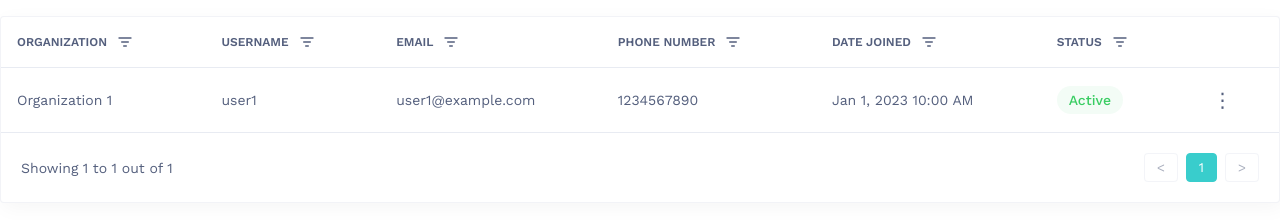
Test: UsersTable › shows dropdown menu when clicking menu button
Click the button "⋮" at [1222, 100], box [1202,83,1242,117]
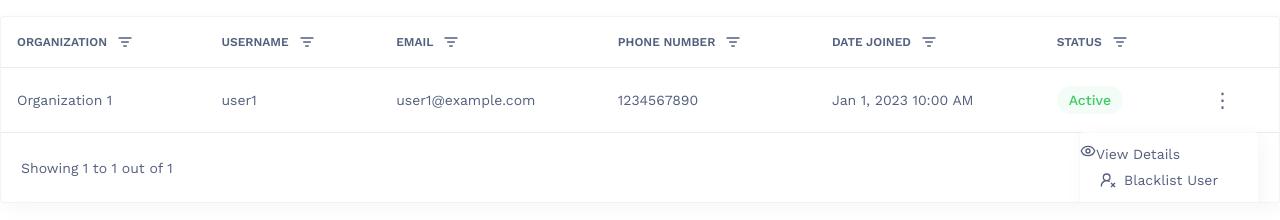
Check: the link "View Details" is shown, box [1080,146,1180,162]
Check: the button "Blacklist User" is shown, box [1080,162,1258,198]
